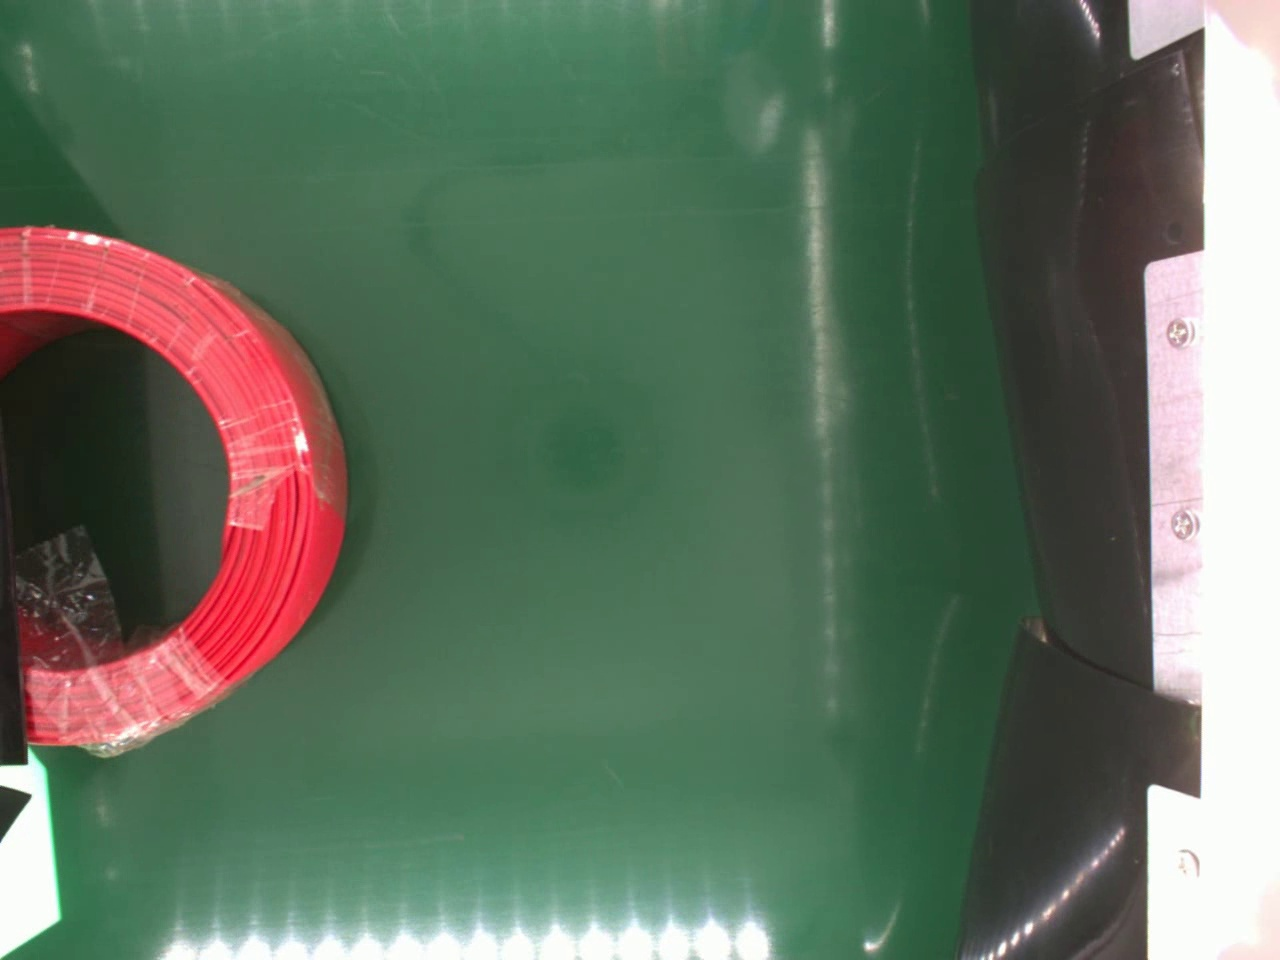red: (0, 222, 350, 753)
